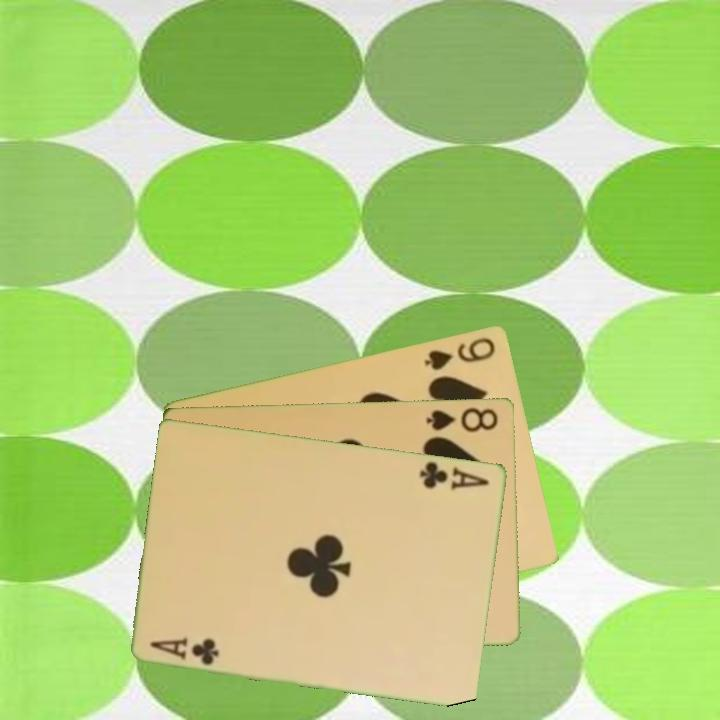8s: (423, 404, 501, 435)
9s: (421, 333, 499, 373)
Ac: (147, 633, 223, 668), (416, 458, 493, 492)
